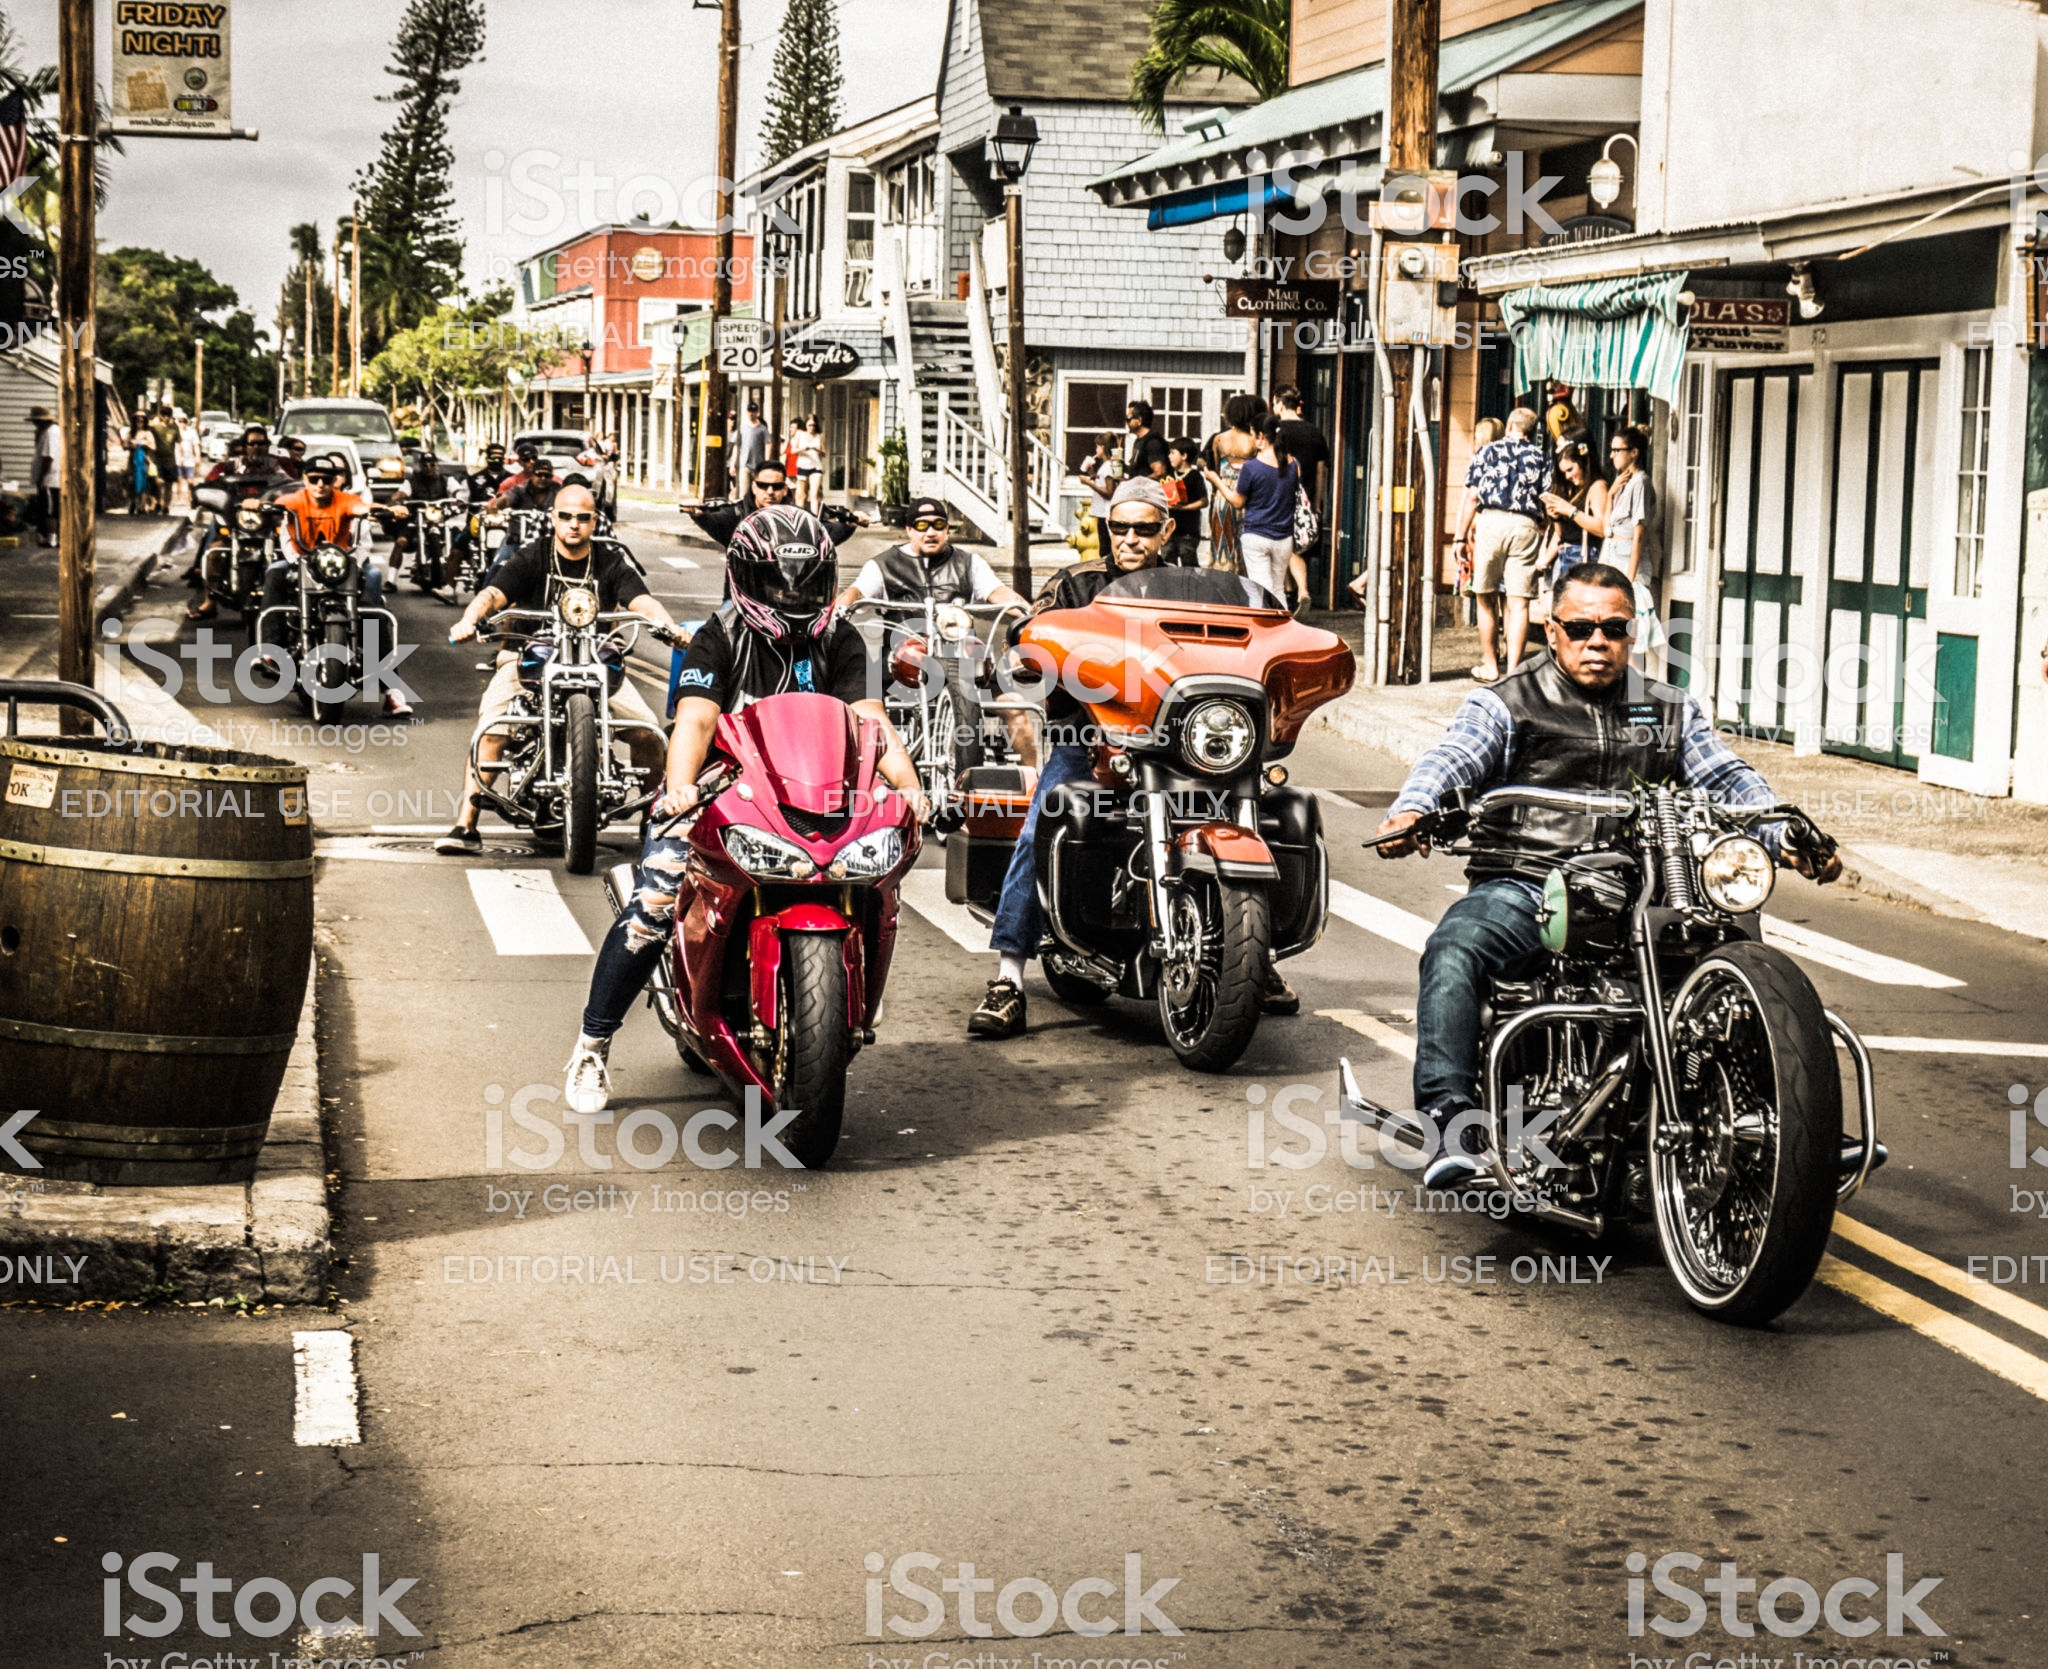helmet: (725, 507, 852, 638)
